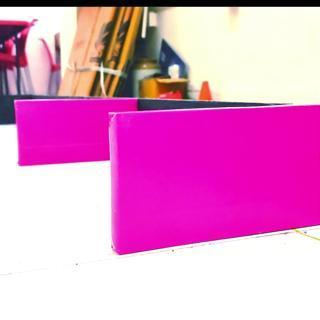xparking: (111, 111, 320, 248), (15, 98, 105, 166)
